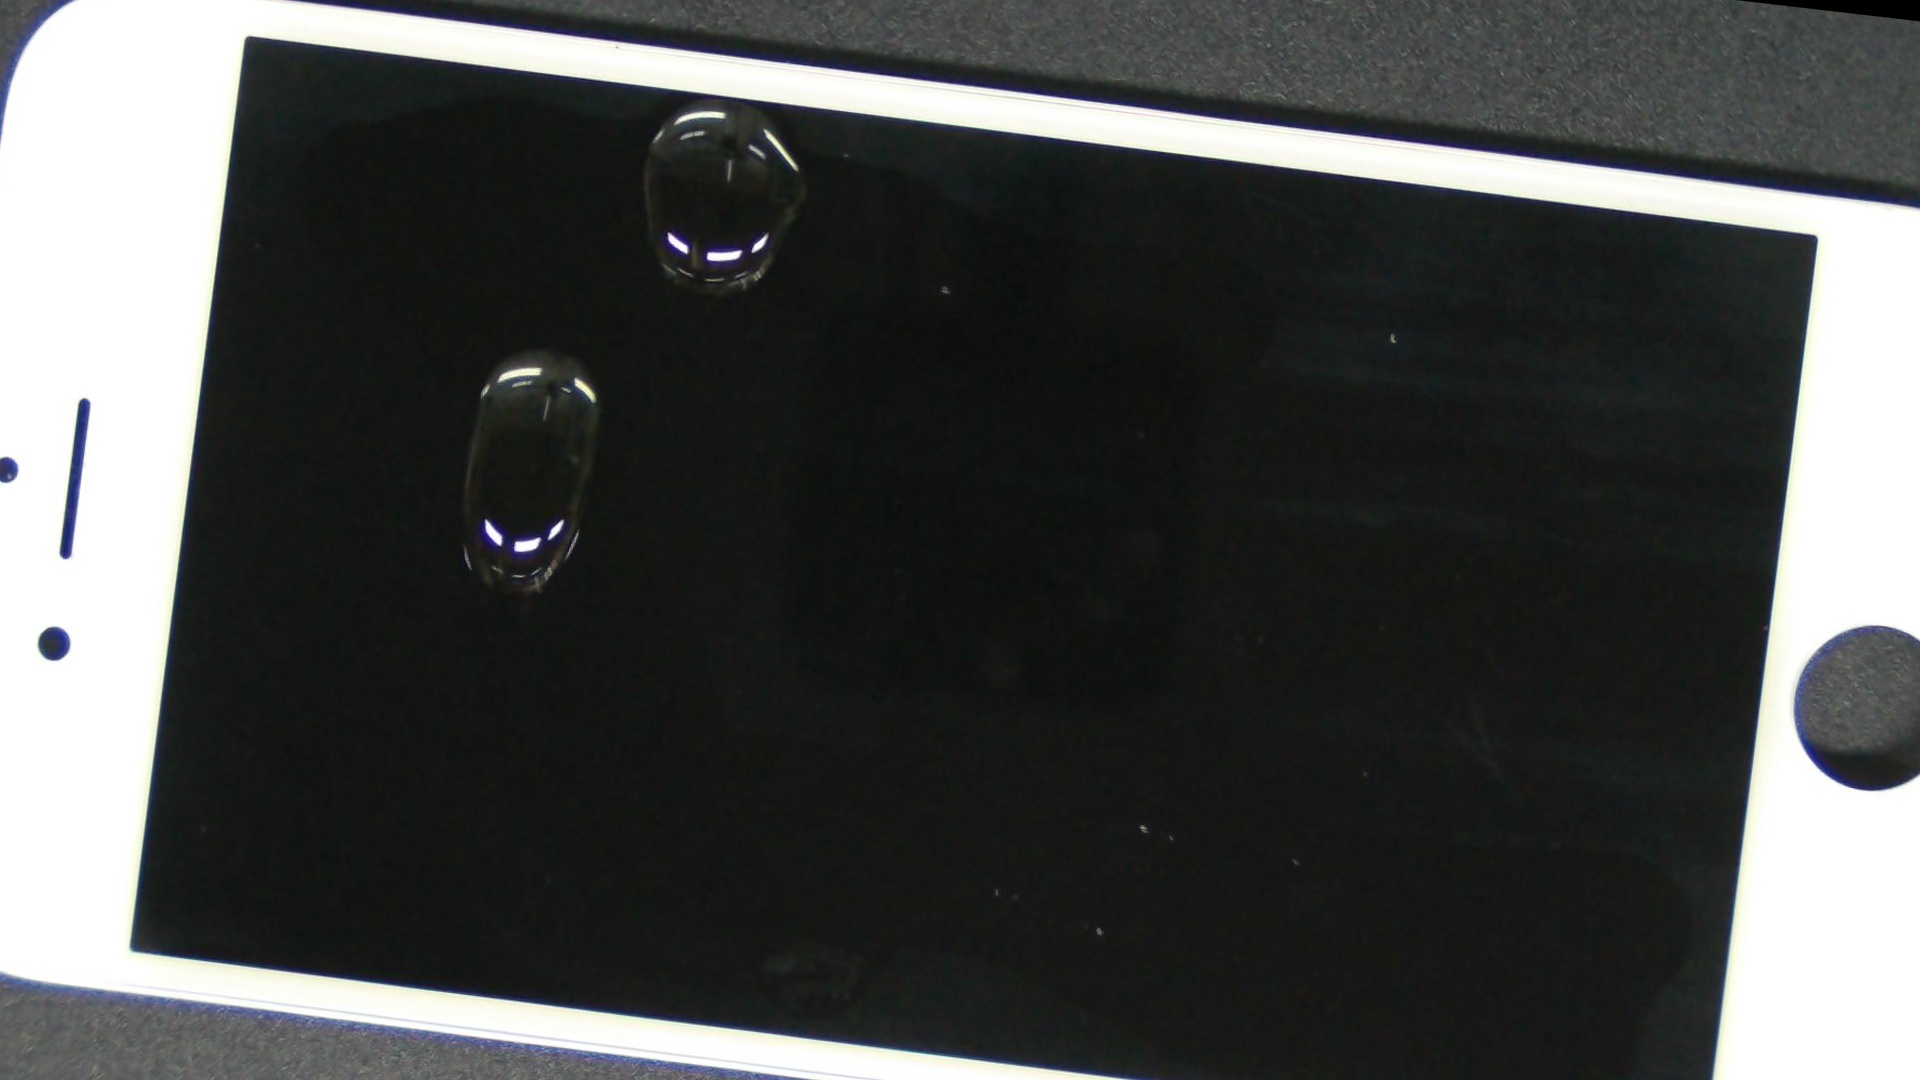oil: (193, 70, 901, 625), (309, 0, 1126, 251)
